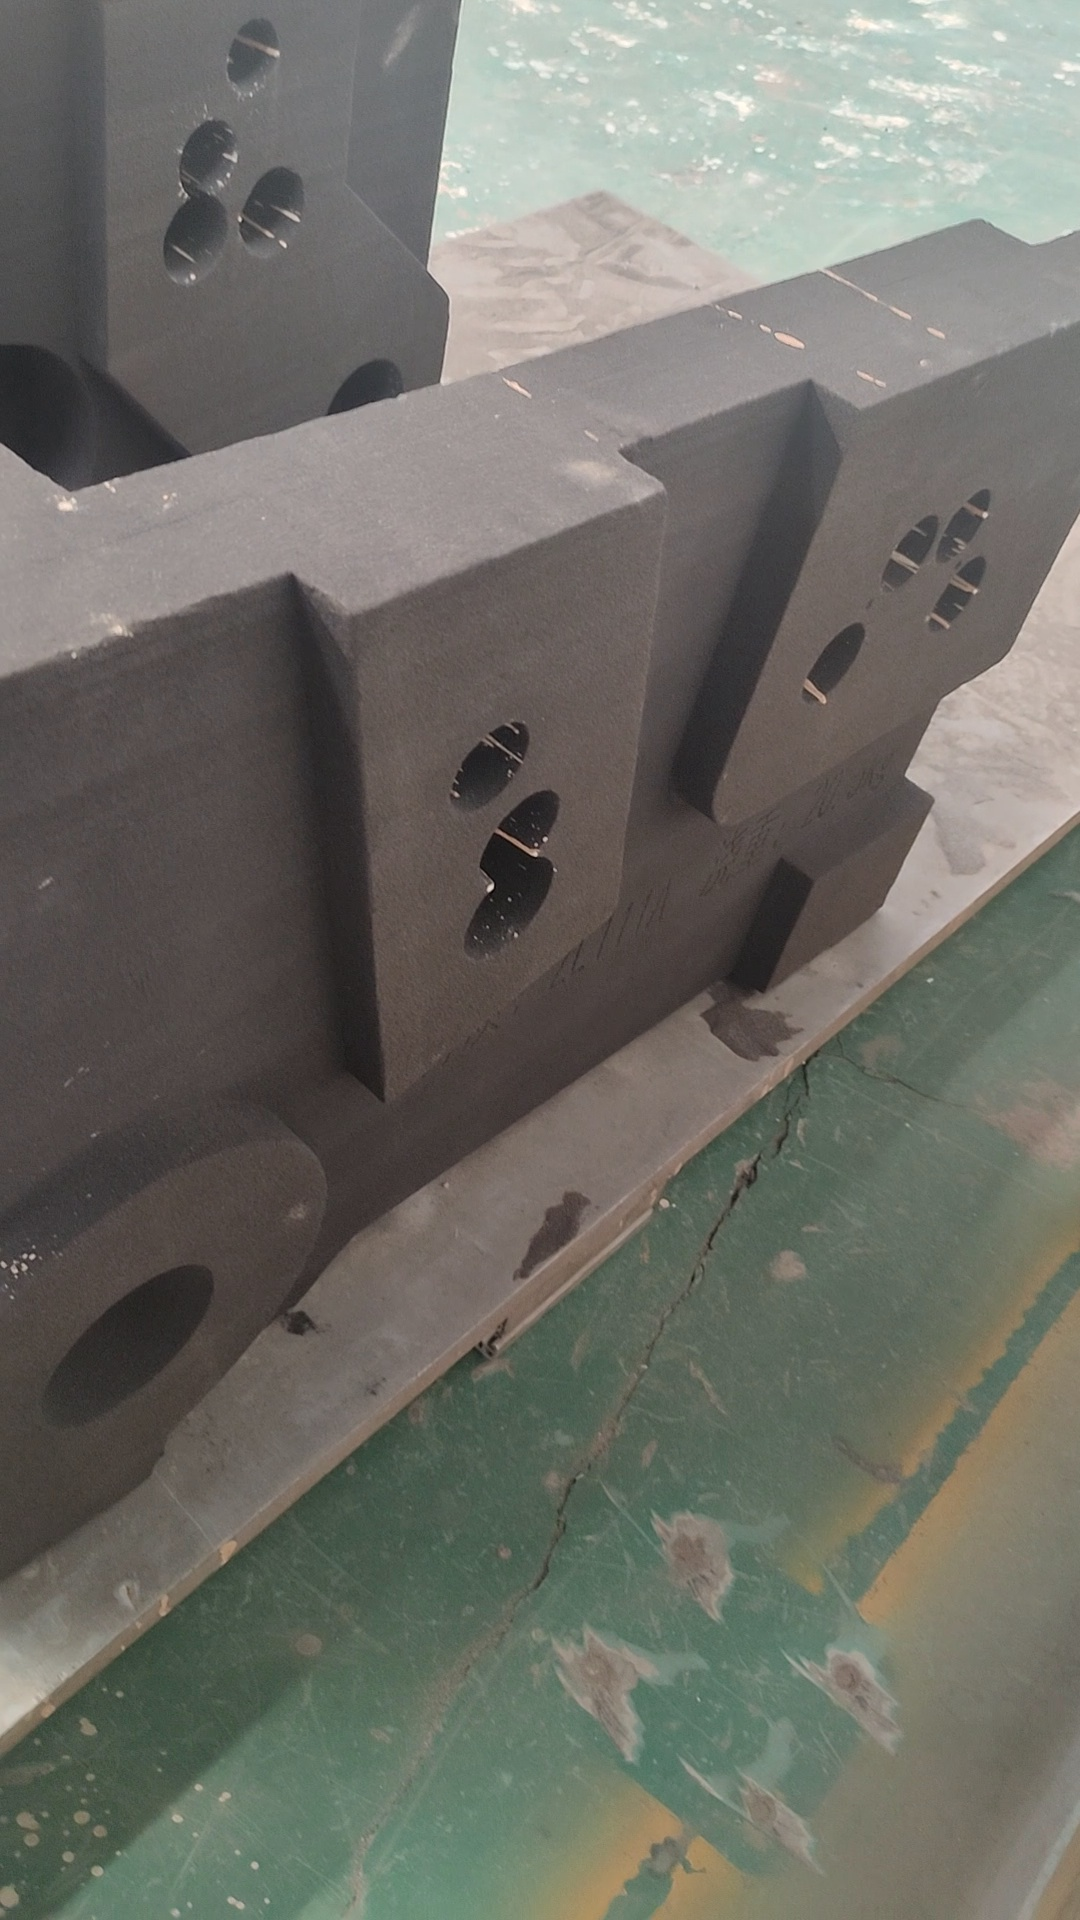pouring hole: (40, 1265, 215, 1428), (324, 359, 407, 440)
